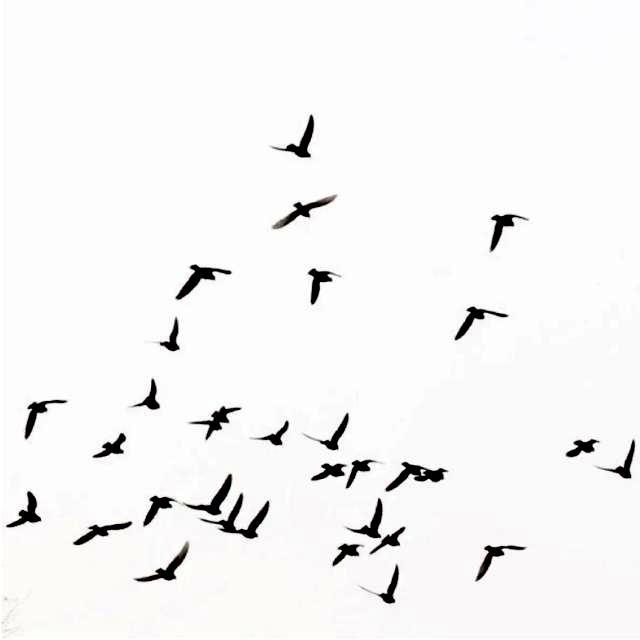bird: (274, 194, 336, 230), (175, 264, 232, 303), (138, 543, 190, 584), (474, 544, 526, 584), (20, 400, 67, 443), (191, 470, 233, 514), (597, 440, 640, 482), (241, 502, 281, 547), (456, 307, 507, 340), (204, 396, 251, 431), (489, 212, 526, 250), (73, 524, 129, 548), (8, 493, 42, 531), (317, 415, 351, 452), (284, 120, 314, 160), (308, 269, 342, 304), (348, 502, 383, 536), (346, 451, 379, 485), (88, 433, 126, 462), (129, 378, 159, 414), (141, 495, 177, 525), (206, 508, 245, 534), (394, 457, 422, 488), (380, 565, 400, 608), (330, 542, 364, 567), (566, 438, 601, 462), (259, 422, 290, 448), (159, 320, 181, 356), (376, 528, 413, 548), (312, 458, 346, 479), (194, 418, 224, 439), (425, 465, 451, 487)
